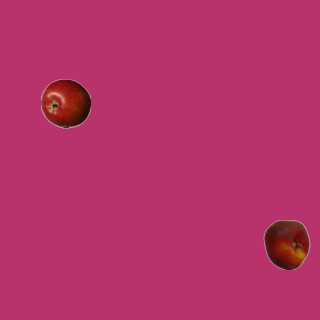Apple Braeburn: (40, 78, 90, 128)
Nectarine Flat: (261, 219, 311, 269)
